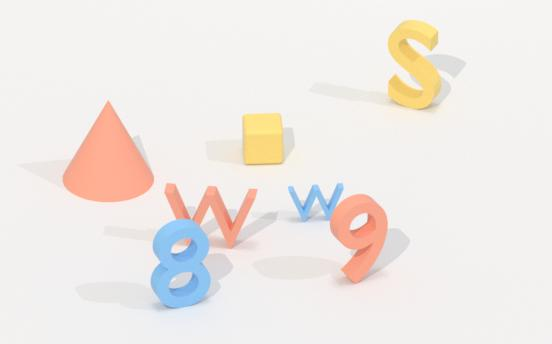8: (150, 219, 212, 313)
9: (326, 190, 393, 290)
hop: (239, 109, 287, 170)
non: (55, 96, 158, 209)
s: (382, 17, 443, 116)
w: (165, 178, 258, 252), (286, 178, 345, 223)
